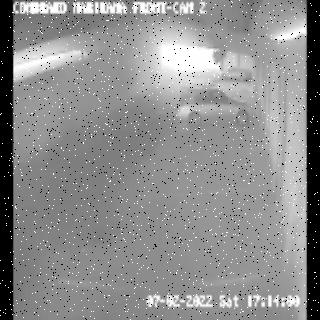car: (172, 86, 257, 128), (220, 66, 253, 82)
